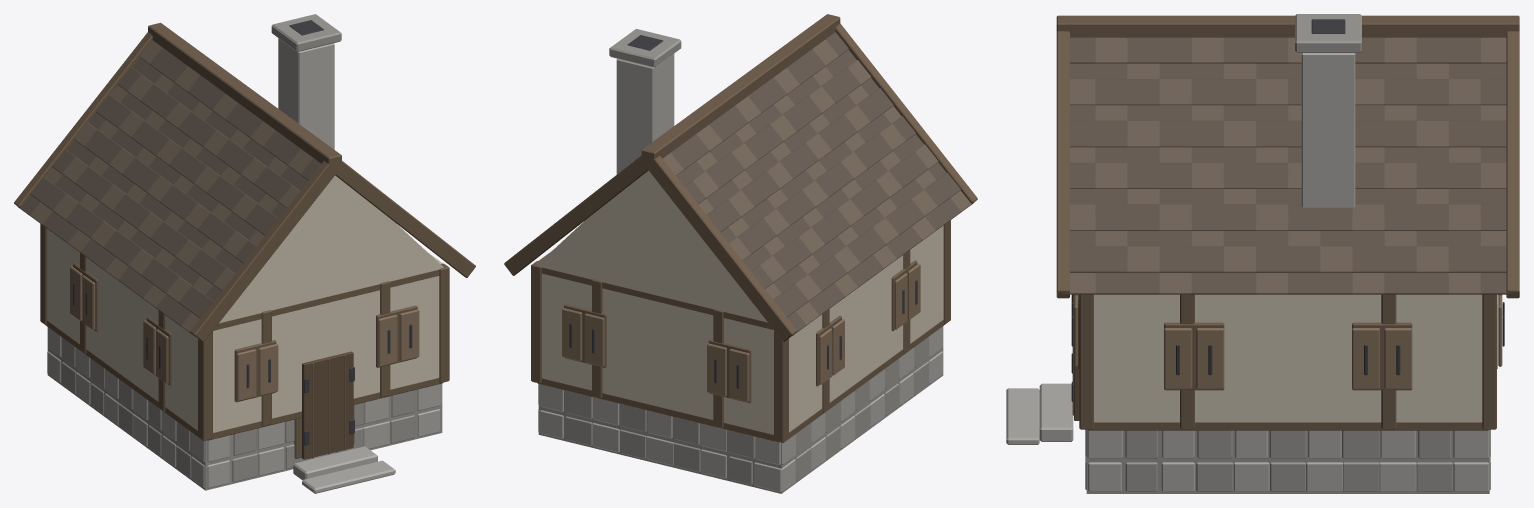
The model's file is house.glb.
The picture shows the model from 3 angles, left to right: view 1: azimuth 30°, elevation 25°; view 2: azimuth 150°, elevation 25°; view 3: azimuth 270°, elevation 25°; orthographic projection. The views are drawn at different scales.
Parts seen in each view (by area): view 1: PlasterN, RoofE, Post, FndN, Shingle, FndCore, Brace, Door, Hinge; view 2: PlasterN, RoofE, Post, Shingle, FndN, FndCore, Brace, Hinge; view 3: RoofE, PlasterN, Shingle, Post, FndN, FndCore, Brace, Hinge.
Part boxes in pixels (left/top/right/bottom): PlasterN: left=47, top=175, right=443, bottom=432; RoofE: left=17, top=48, right=321, bottom=326; Post: left=14, top=22, right=475, bottom=458; FndN: left=47, top=38, right=441, bottom=493; Shingle: left=30, top=40, right=313, bottom=336; FndCore: left=47, top=14, right=442, bottom=490; Brace: left=70, top=266, right=419, bottom=401; Door: left=302, top=351, right=353, bottom=459; Hinge: left=73, top=20, right=412, bottom=445; PlasterN: left=537, top=170, right=943, bottom=434; RoofE: left=671, top=32, right=961, bottom=335; Post: left=504, top=14, right=977, bottom=442; Shingle: left=662, top=39, right=974, bottom=325; FndN: left=538, top=54, right=943, bottom=492; FndCore: left=538, top=29, right=943, bottom=493; Brace: left=562, top=263, right=920, bottom=402; Hinge: left=569, top=35, right=917, bottom=388; RoofE: left=1070, top=37, right=1513, bottom=294; PlasterN: left=1094, top=294, right=1482, bottom=422; Shingle: left=1062, top=37, right=1506, bottom=294; Post: left=1056, top=15, right=1519, bottom=430; FndN: left=1006, top=53, right=1490, bottom=491; FndCore: left=1086, top=14, right=1489, bottom=493; Brace: left=1074, top=294, right=1502, bottom=389; Hinge: left=1071, top=19, right=1504, bottom=401.
Size of the model in its own units: 6.18 by 7.27 by 7.65.
